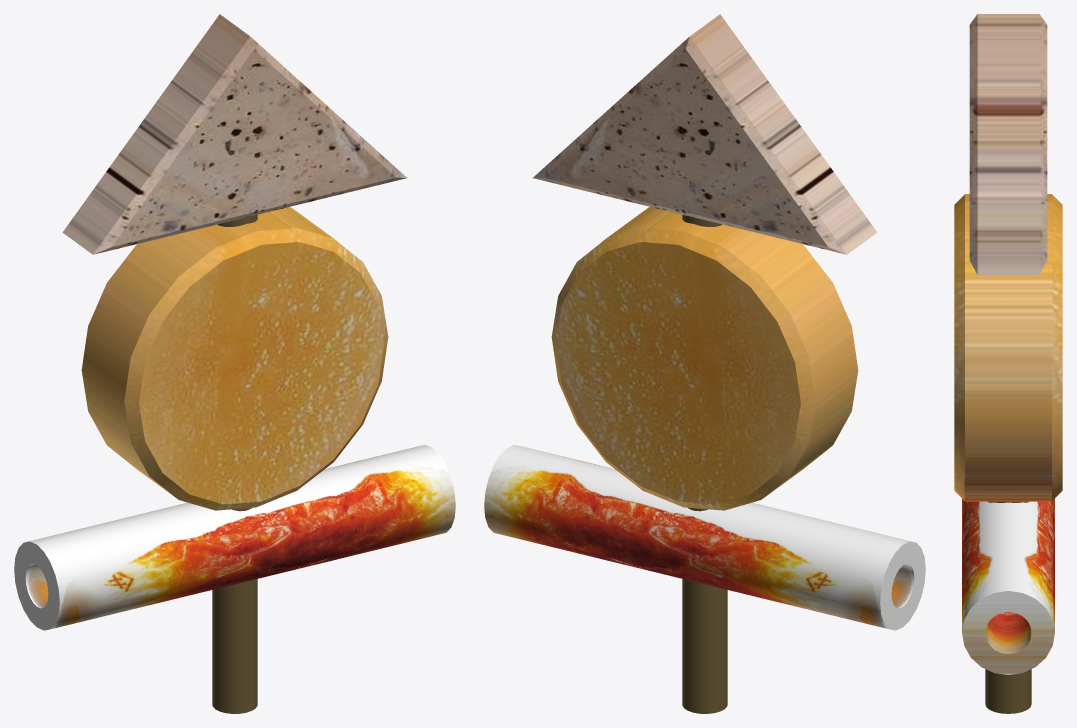
Rendered from Oden .fbx.
3 renders of one model, left to right at view 1: azimuth 30°, elevation 25°; view 2: azimuth 150°, elevation 25°; view 3: azimuth 270°, elevation 25°, orthographic.
Parts seen in each view (by area): view 1: pCylinder6; view 2: pCylinder6; view 3: pCylinder6.
Boxes of the visible parts, x1=… form: pCylinder6: x1=14, y1=14, x2=455, y2=713; pCylinder6: x1=484, y1=14, x2=925, y2=713; pCylinder6: x1=954, y1=14, x2=1062, y2=713.
Bounding box in the file's own units: 3 × 4.92 × 0.7.
Materials: 2 (1 with a texture image).
